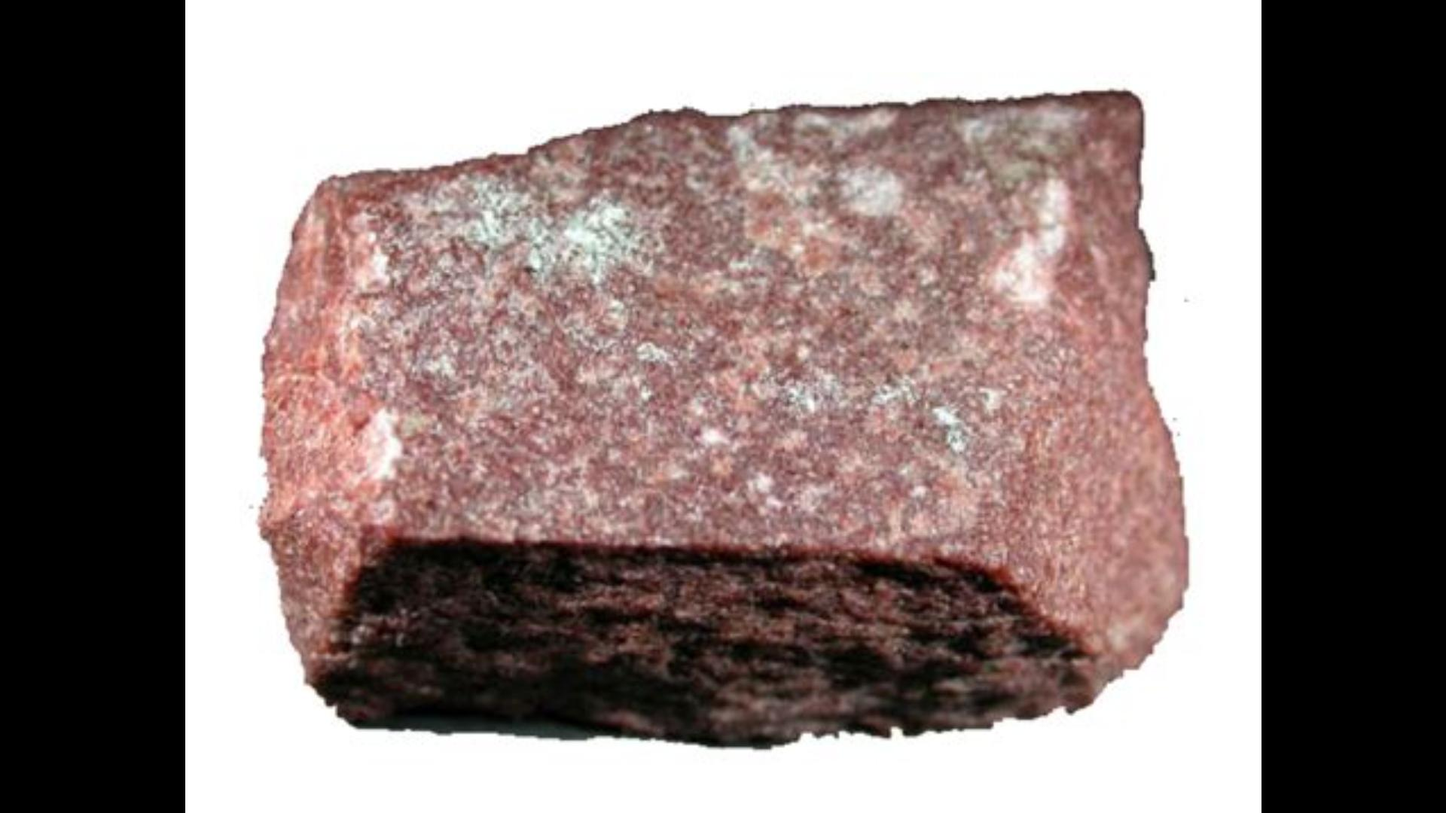rock: (262, 95, 1184, 738)
